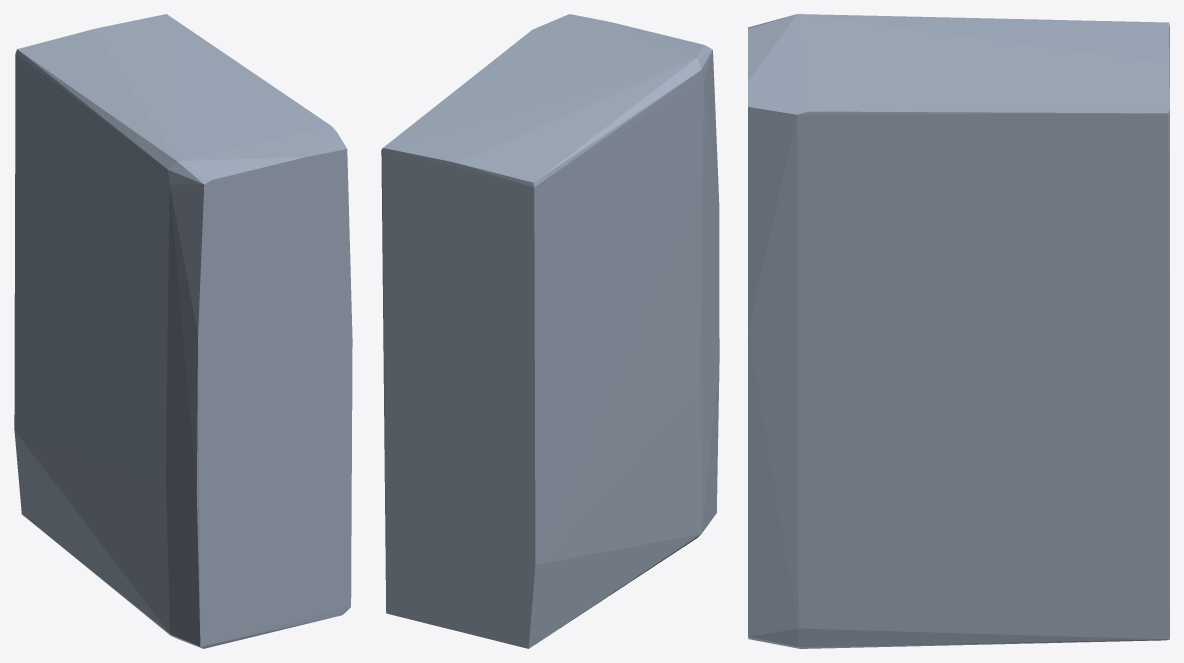
Rendered from stationery_marker_alcohol_box_a01.glb.
3 renders of one model, left to right at view 1: azimuth 30°, elevation 25°; view 2: azimuth 150°, elevation 25°; view 3: azimuth 270°, elevation 25°, orthographic. The views are drawn at different scales.
Visible parts, largest first — view 1: geometry_0; view 2: geometry_0; view 3: geometry_0.
Part boxes in pixels (box(x1,y1,x2,y2)): geometry_0: box(14, 14, 352, 648); geometry_0: box(381, 14, 719, 648); geometry_0: box(748, 14, 1169, 648).
Bounding box in the file's own units: 0.1746 × 0.4784 × 0.3317.
